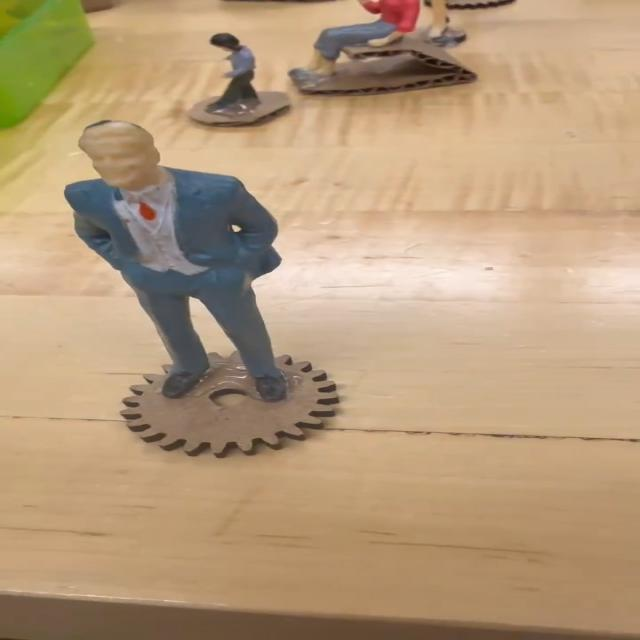Authorized: (56, 114, 310, 409)
